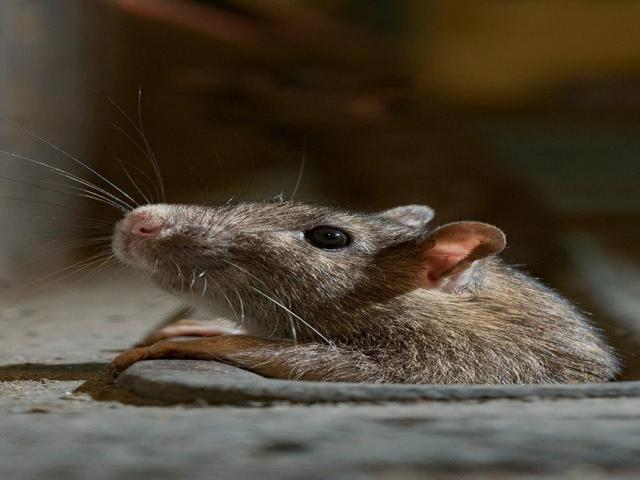Tikus: (59, 151, 623, 385)
